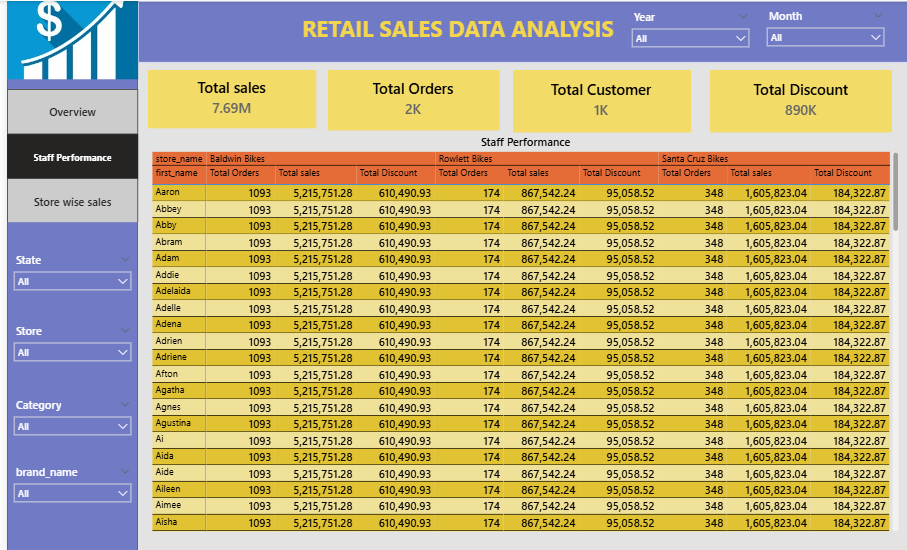

What the dashboard file says about the page in this screenshot:
{"tool":"powerbi","page":{"name":"Staff Performance","canvas":[1318,801],"ordinal":1},"visuals":[{"type":"shape","box":[0,0,190.6,801],"z":0},{"type":"shape","box":[190.6,0,1127.8,89.7],"z":0,"group":"g1"},{"type":"shape","box":[205.5,100.9,245.1,84.9],"z":0,"group":"g2"},{"type":"shape","box":[466.9,100.9,249.9,88.1],"z":0,"group":"g5"},{"type":"shape","box":[737.2,100.9,259.5,91.3],"z":0,"group":"g3"},{"type":"shape","box":[1024.3,100.9,265.2,90.9],"z":0,"group":"g4"},{"type":"group","id":"g1","title":"Group 1","box":[190.6,0,1127.8,89.7],"z":1000},{"type":"textbox","box":[364.5,12.8,585.4,65.9],"z":1000,"group":"g1"},{"type":"cardVisual","fields":{"Data":["public brands.Total sales"]},"box":[217.1,100.9,220.3,78.9],"z":1000,"group":"g2"},{"type":"cardVisual","fields":{"Data":["public brands.Total Orders"]},"box":[478.7,100.9,224.6,81.9],"z":1000,"group":"g5"},{"type":"cardVisual","fields":{"Data":["public brands.Customer Count"]},"box":[749.5,100.9,233.2,84.9],"z":1000,"group":"g3"},{"type":"cardVisual","fields":{"Data":["public brands.Total Discount"]},"box":[1036.8,100.9,238.3,84.5],"z":1000,"group":"g4"},{"type":"group","id":"g2","title":"Group 2","box":[205.5,100.9,245.1,84.9],"z":2000},{"type":"group","id":"g3","title":"Group 2","box":[737.2,100.9,259.5,91.3],"z":3000},{"type":"group","id":"g4","title":"Group 2","box":[1024.3,100.9,265.9,91.3],"z":4000},{"type":"group","id":"g5","title":"Group 2","box":[466.9,100.9,249.9,88.1],"z":5000},{"type":"slicer","fields":{"Values":["public orders.order_date.Variation.Date Hierarchy.Year"]},"box":[900.1,7.4,191.4,77.3],"z":6000},{"type":"slicer","fields":{"Values":["public orders.order_date.Variation.Date Hierarchy.Month"]},"box":[1097.1,5.5,191.4,79.2],"z":7000},{"type":"slicer","fields":{"Values":["public customers.state"]},"box":[0,360.8,191.4,79.2],"z":8000},{"type":"slicer","fields":{"Values":["public stores.store_name"]},"box":[0,463.9,191.4,79.2],"z":9000},{"type":"slicer","fields":{"Values":["public categories.category_name"]},"box":[0,572.5,191.4,79.2],"z":10000},{"type":"slicer","fields":{"Values":["public brands.brand_name"]},"box":[0,670,191.4,79.2],"z":11000},{"type":"image","box":[0,0,191.4,114.1],"z":12000},{"type":"pivotTable","title":"Staff Performance","fields":{"Rows":["public customer_order_summary.first_name"],"Columns":["public stores.store_name"],"Values":["public brands.Total Orders","public brands.Total sales","public brands.Total Discount"]},"box":[206.2,193.3,1097.1,583.5],"z":13000},{"type":"pageNavigator","box":[0,128.9,191.4,197],"z":14000}]}

Visuals, with their boxes on the page's 1318x801 design canvas (x1, y1, x2, y2). These are canvas units, not pixel positions in the 907x550 screenshot, which may show the page scaled, cropped or inside an application window:
shape: select_region(0, 0, 191, 801)
shape: select_region(191, 0, 1318, 90)
shape: select_region(206, 101, 451, 186)
shape: select_region(467, 101, 717, 189)
shape: select_region(737, 101, 997, 192)
shape: select_region(1024, 101, 1290, 192)
"Group 1" group: select_region(191, 0, 1318, 90)
textbox: select_region(364, 13, 950, 79)
cardVisual - public brands.Total sales: select_region(217, 101, 437, 180)
cardVisual - public brands.Total Orders: select_region(479, 101, 703, 183)
cardVisual - public brands.Customer Count: select_region(750, 101, 983, 186)
cardVisual - public brands.Total Discount: select_region(1037, 101, 1275, 185)
"Group 2" group: select_region(206, 101, 451, 186)
"Group 2" group: select_region(737, 101, 997, 192)
"Group 2" group: select_region(1024, 101, 1290, 192)
"Group 2" group: select_region(467, 101, 717, 189)
slicer - public orders.order_date.Variation.Date Hierarchy.Year: select_region(900, 7, 1092, 85)
slicer - public orders.order_date.Variation.Date Hierarchy.Month: select_region(1097, 6, 1288, 85)
slicer - public customers.state: select_region(0, 361, 191, 440)
slicer - public stores.store_name: select_region(0, 464, 191, 543)
slicer - public categories.category_name: select_region(0, 572, 191, 652)
slicer - public brands.brand_name: select_region(0, 670, 191, 749)
image: select_region(0, 0, 191, 114)
"Staff Performance" pivotTable: select_region(206, 193, 1303, 777)
pageNavigator: select_region(0, 129, 191, 326)
